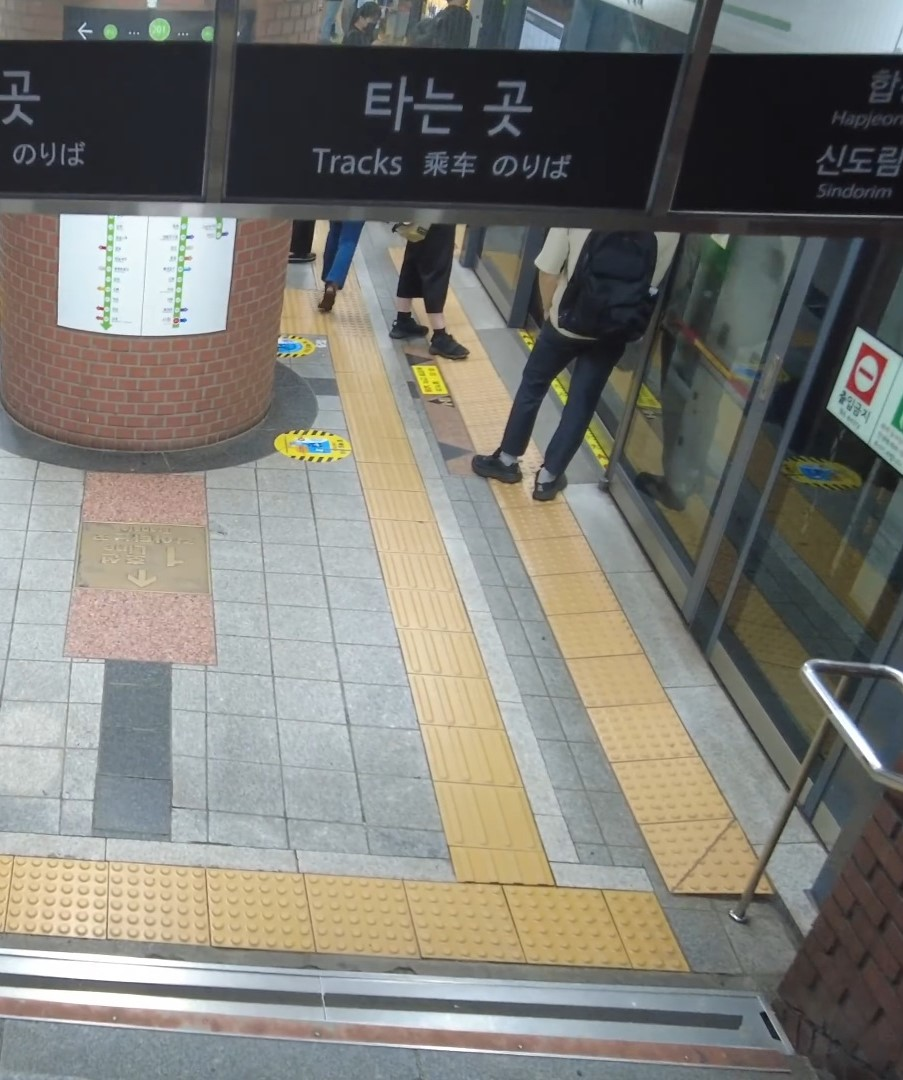guideBlock: (451, 788, 550, 867), (399, 657, 490, 725), (427, 723, 518, 789), (385, 615, 483, 674), (369, 518, 463, 574), (385, 545, 463, 606), (387, 582, 474, 629)
warningBlock: (650, 821, 790, 910), (411, 880, 541, 968), (4, 851, 129, 937), (507, 889, 628, 977), (101, 856, 212, 947), (606, 881, 690, 999), (305, 873, 415, 959), (612, 756, 743, 828), (198, 879, 314, 950), (513, 565, 619, 627), (511, 535, 606, 589), (562, 651, 662, 699), (601, 717, 698, 765), (556, 608, 632, 664), (511, 501, 578, 539)
